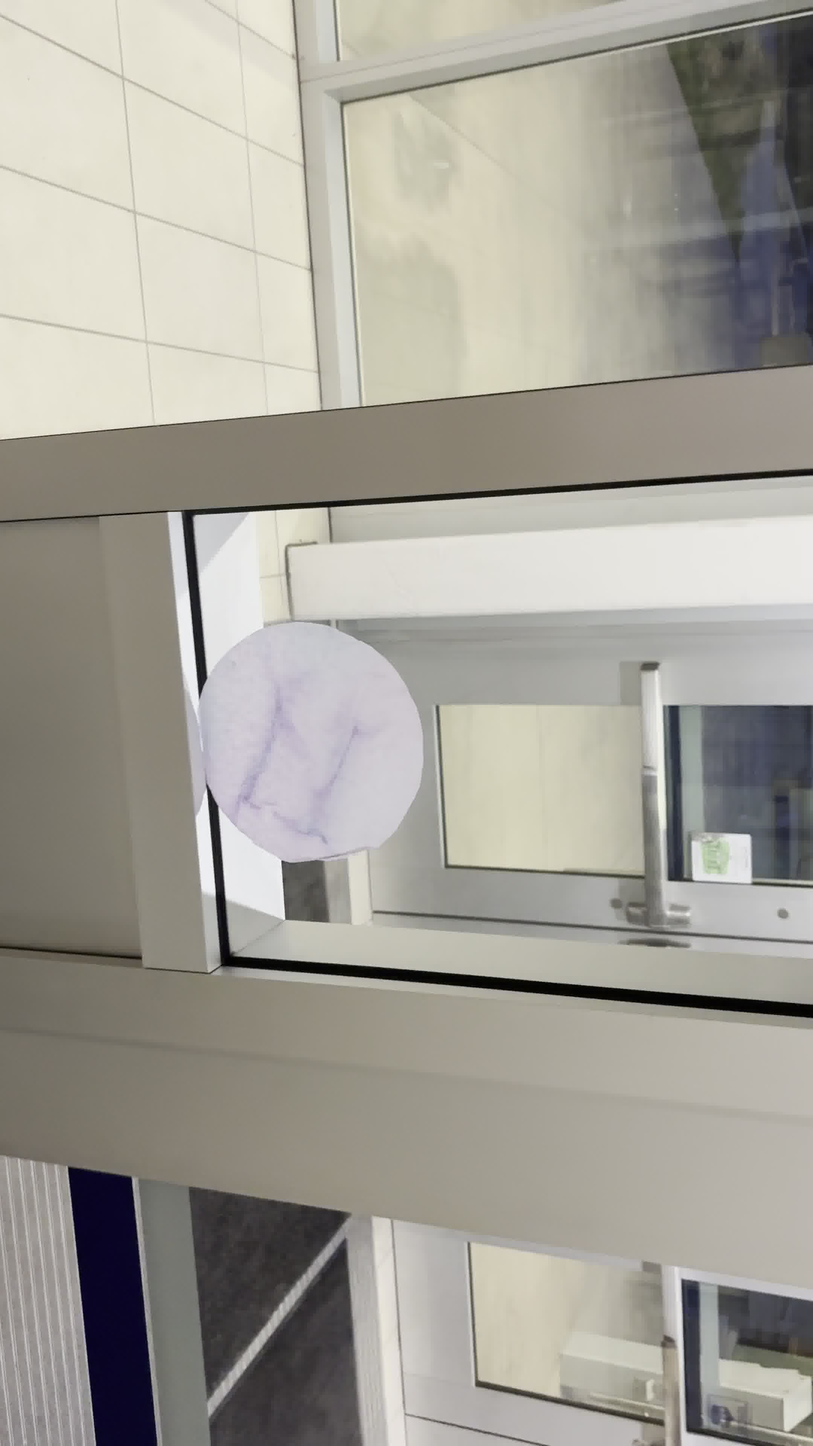Target: (192, 614, 424, 868)
